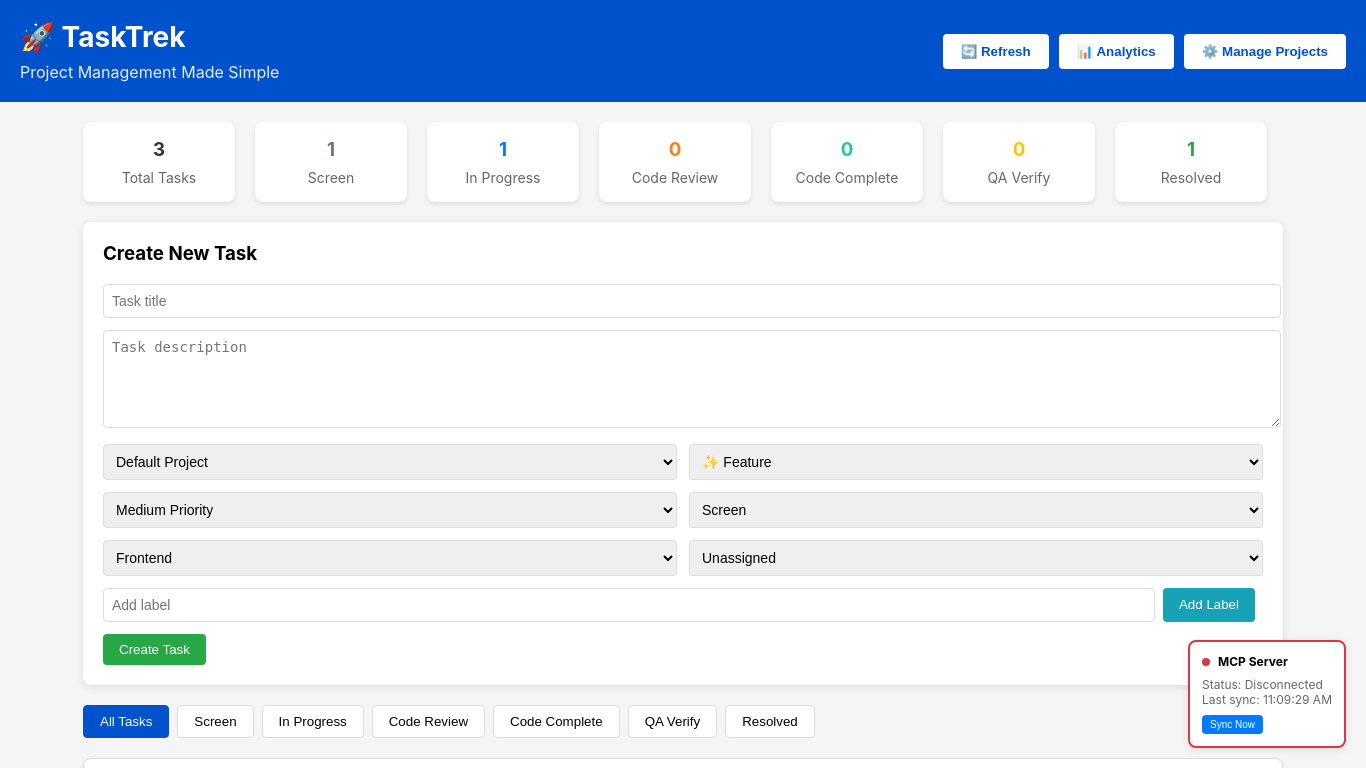
Test case: Dashboard Component › opens project manager modal
This screenshot has width=1366, height=768.
Click the button "⚙️ Manage Projects" at coordinates (1265, 51), box [1184, 34, 1346, 68]
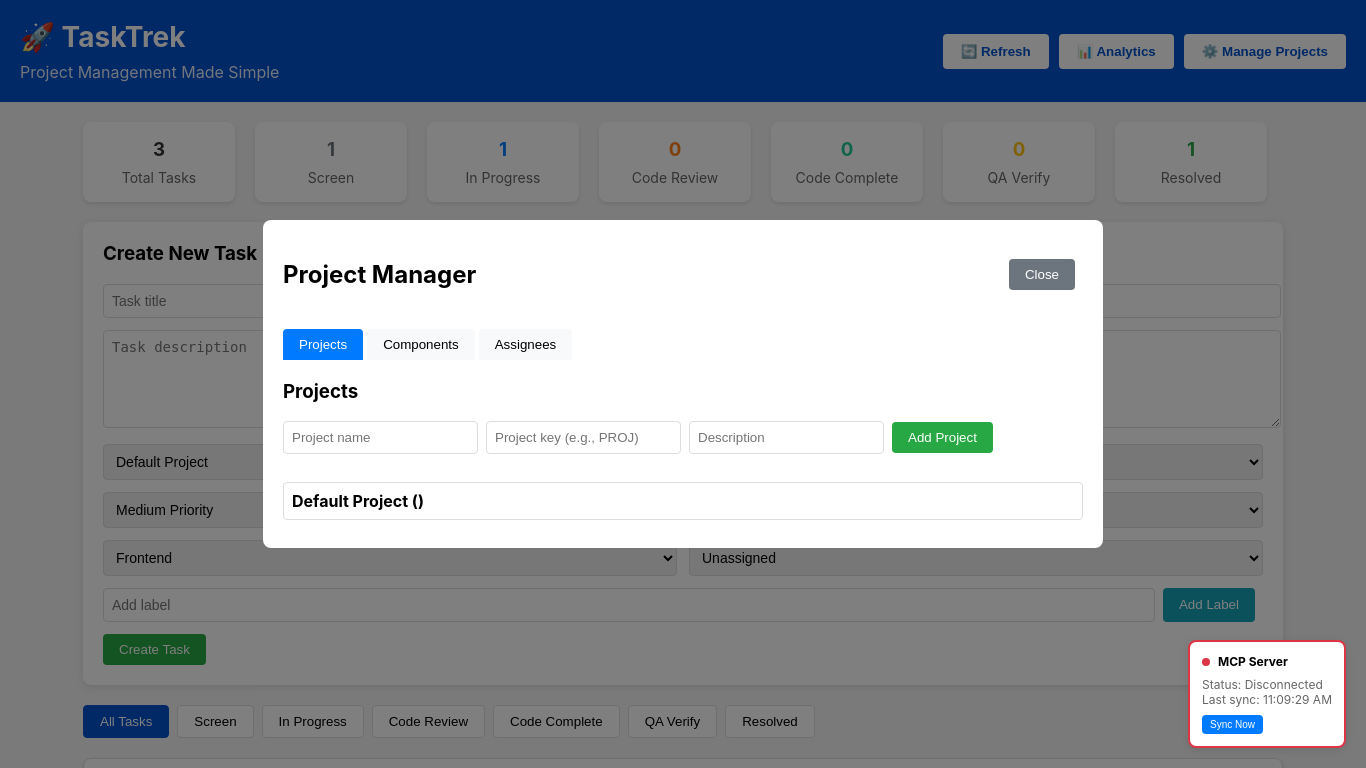
Check: the heading "Project Manager" is shown, box [283, 260, 476, 289]
